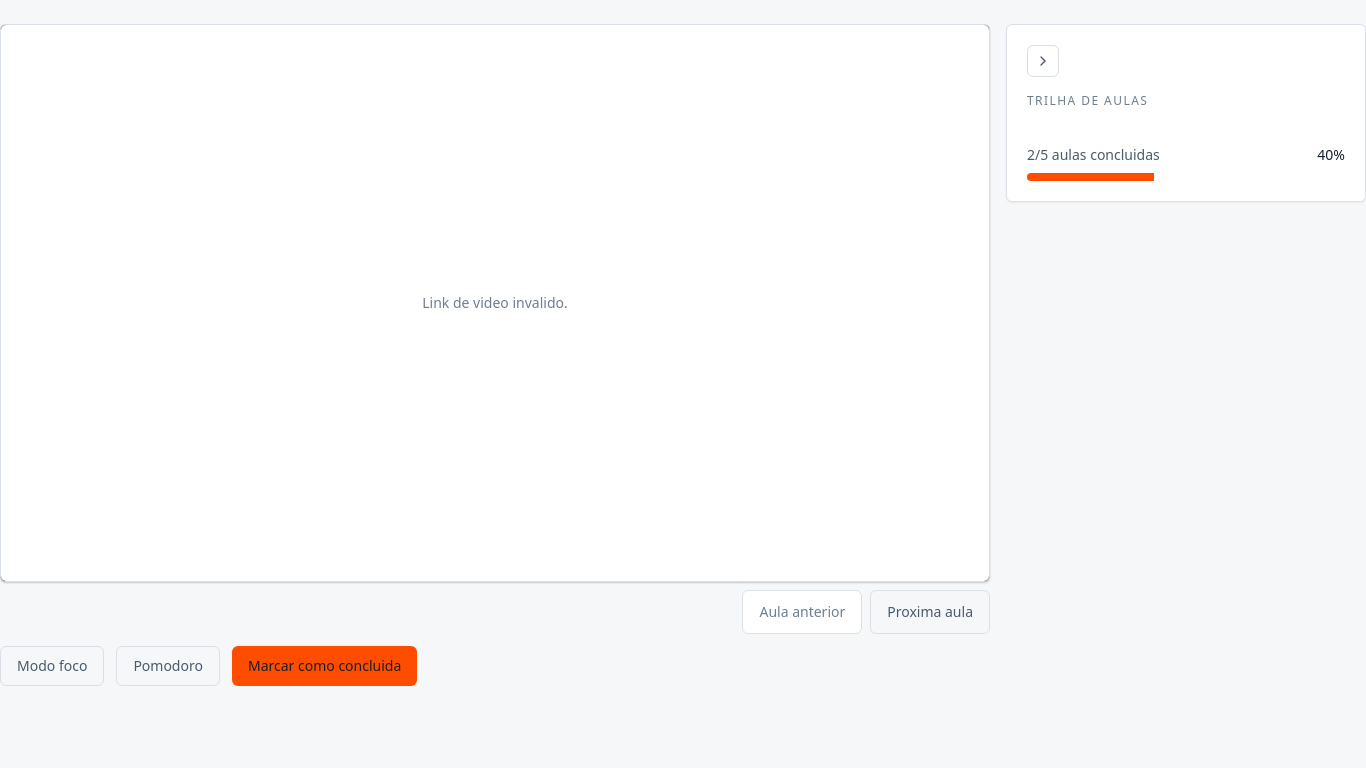
Test: LessonCompletionPanel › lets the student cancel the auto-advance countdown
Click the button "Marcar como concluida": (325, 666) [232,646,417,686]
(page scrolled)
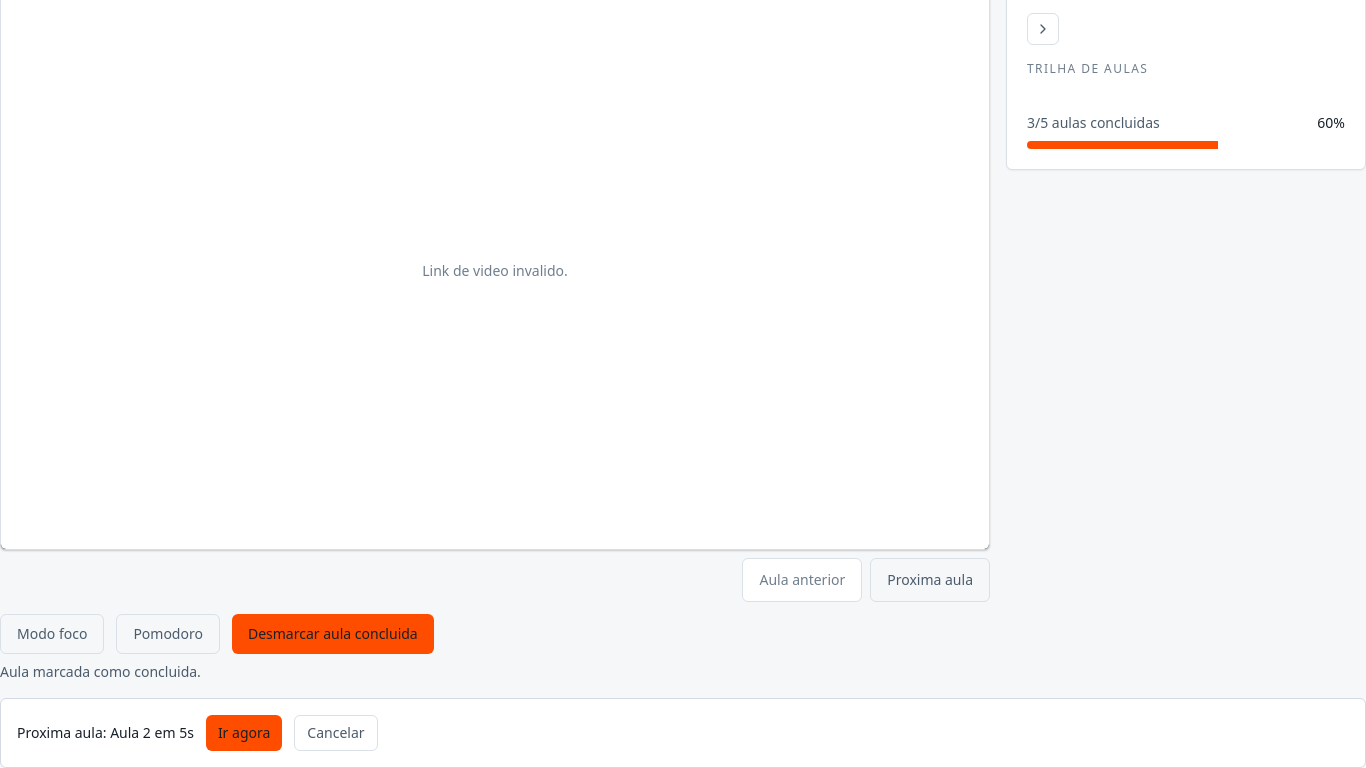
Click the button "Cancelar": (336, 733) [294,715,378,751]
Wait 5000 ms
(page scrolled)
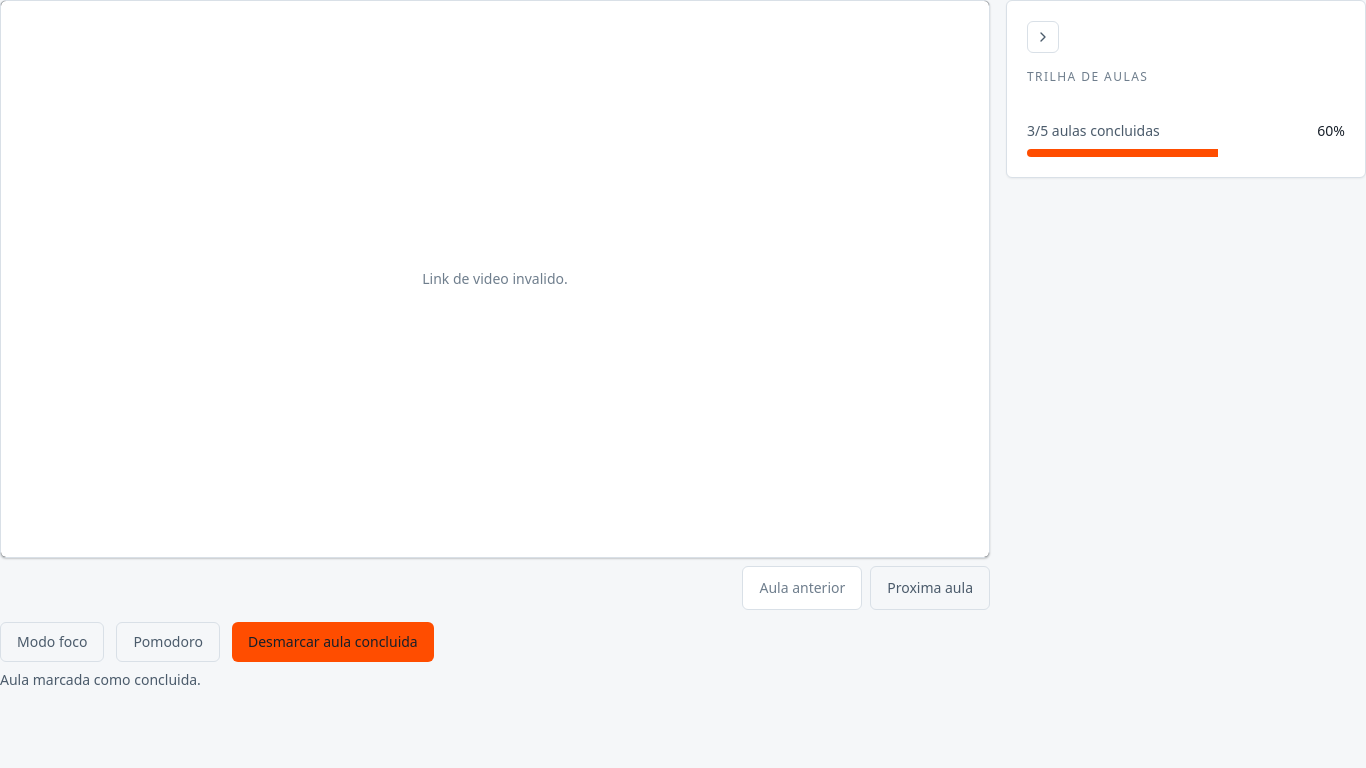
Now the text "Proxima aula: Aula 2" is gone
